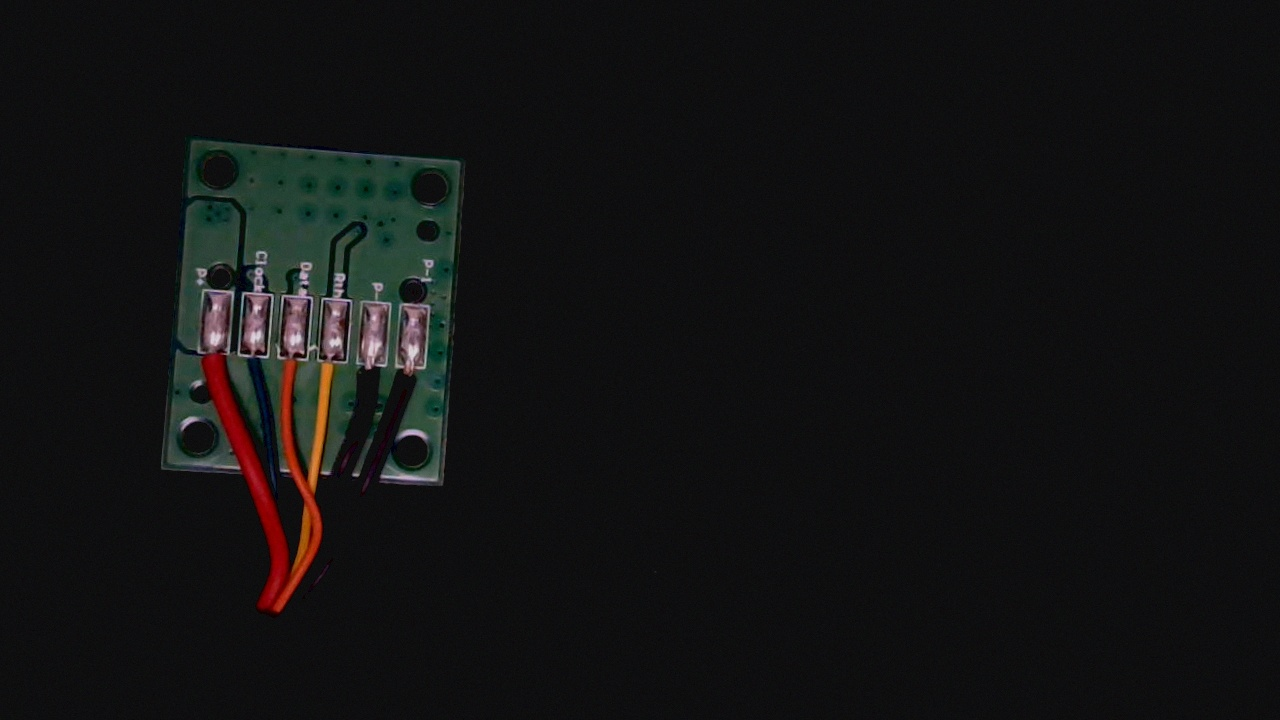Black: (351, 350, 386, 417)
Black1: (391, 352, 427, 415)
Green: (233, 340, 270, 404)
Orange: (271, 345, 308, 412)
Red: (193, 340, 233, 400)
Yellow: (309, 347, 348, 411)
